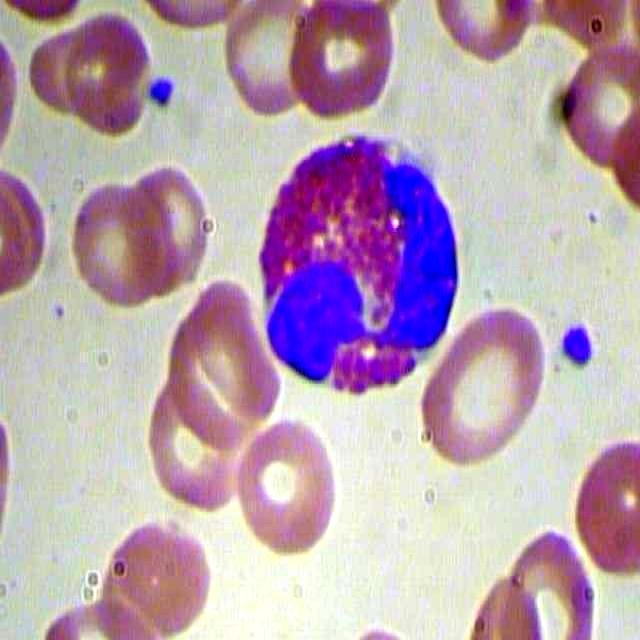Platelets: (549, 316, 600, 380), (142, 71, 177, 116)
RBC: (415, 292, 550, 479), (234, 409, 343, 564), (69, 168, 178, 323), (101, 504, 214, 640), (288, 1, 397, 130), (58, 11, 156, 144), (572, 440, 640, 579)
WBC: (251, 121, 471, 408)
